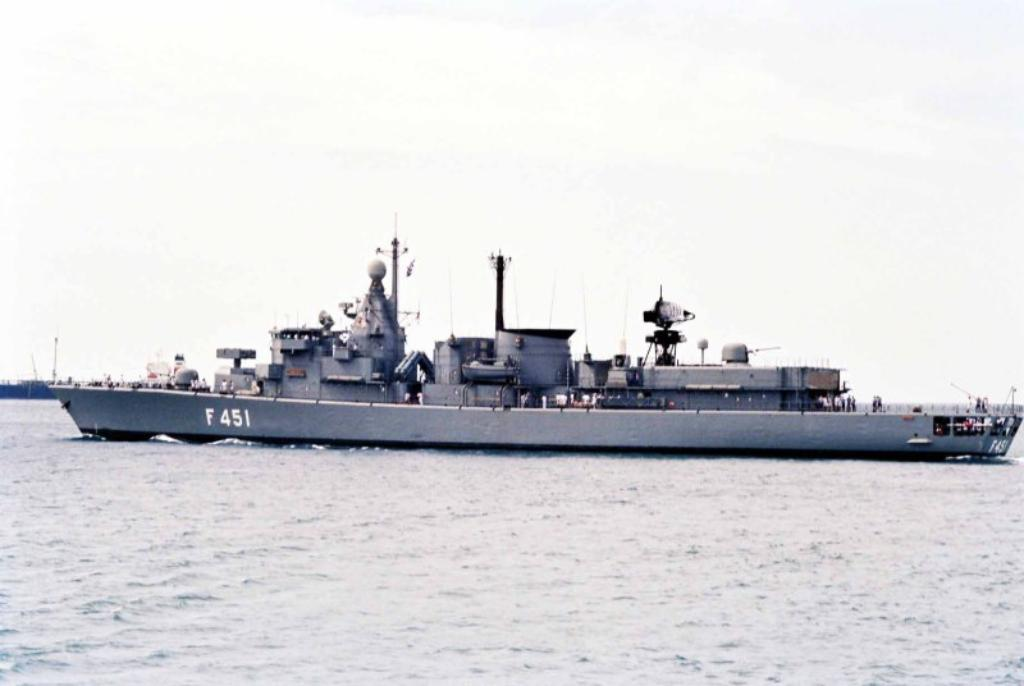Warship: (42, 213, 1022, 458)
